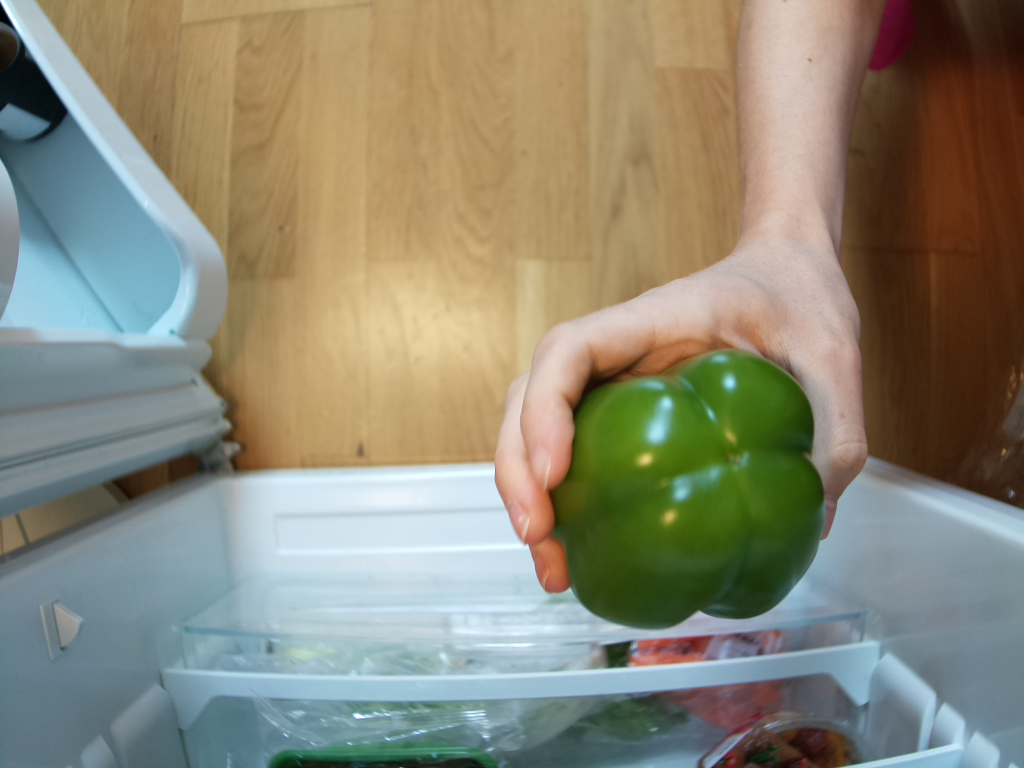pepper: (552, 348, 823, 631)
